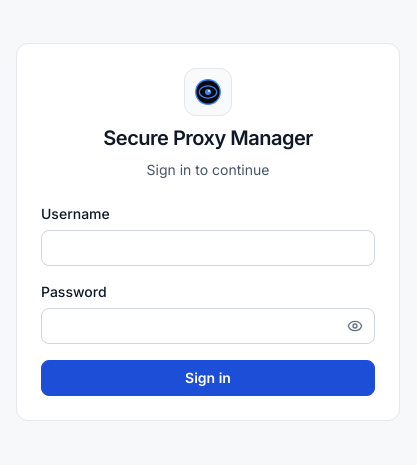
Scenario: Login › shows the backend rate-limit detail on 429 instead of Invalid username or password
The width and height of the screenshot is (417, 465).
Type "admin" into the field labelled "Username" at (208, 248), box [41,230,375,266]
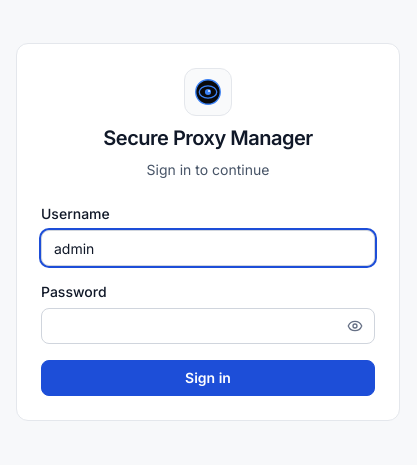
Type "secret" into the password field labelled "Password" at (208, 326), box [41,308,375,344]
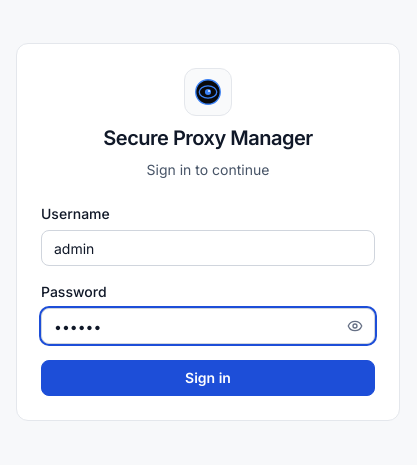
Click the button "Sign in" at (208, 378), box [41,360,375,396]
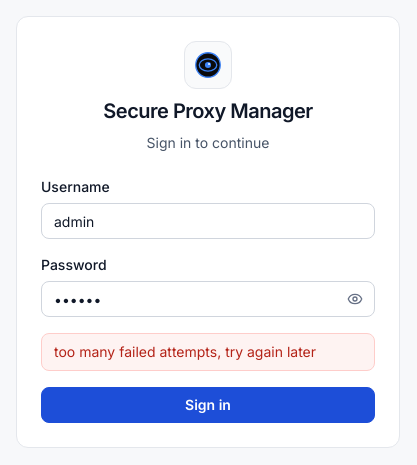
Check: the message does not show "invalid username or password", box [41,333,375,371]
Check: the message reads "too many failed attempts, try again later", box [54,343,316,360]
